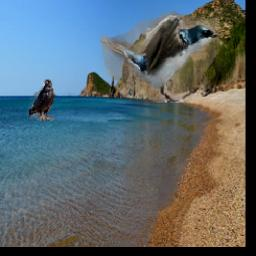Crow: (29, 79, 54, 121)
Swallow: (100, 11, 219, 103)
